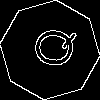Q: (25, 25, 77, 70)
